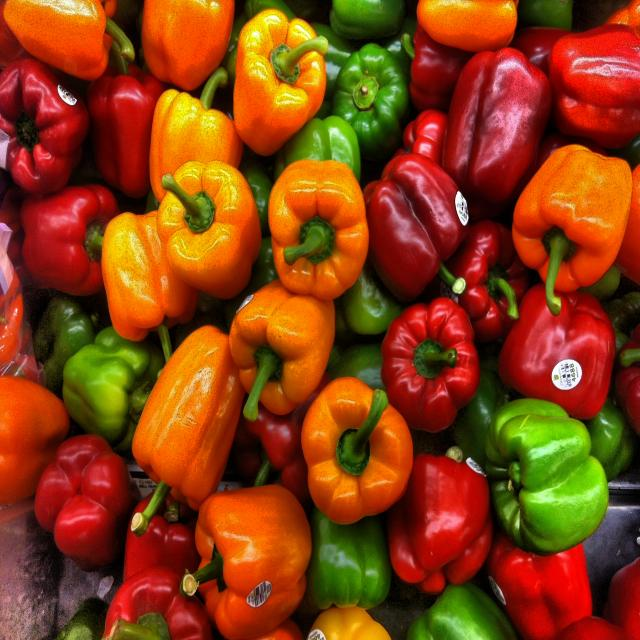capsicum: (150, 72, 354, 496)
green pepper: (483, 412, 623, 554)
red capsicum: (368, 168, 619, 398)
